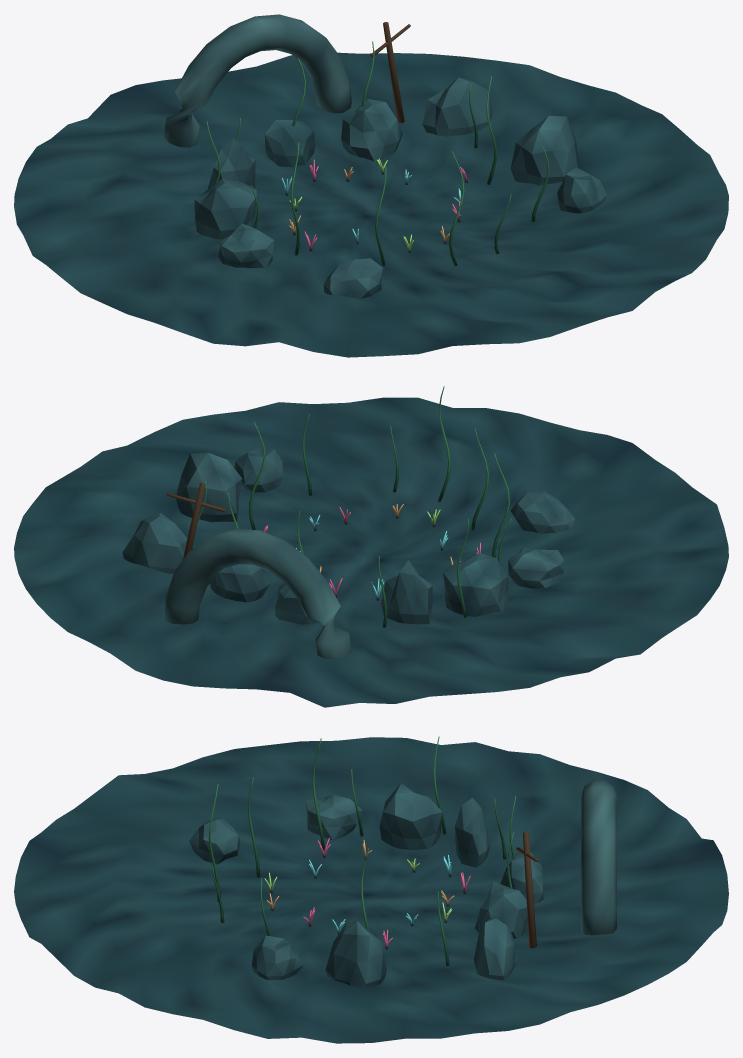
File: arena-abyss.fbc5b22399.glb
3 views of the same model, one above another, from view 1: azimuth 30°, elevation 25°; view 2: azimuth 150°, elevation 25°; view 3: azimuth 270°, elevation 25° (orthographic).
Visible parts, largest first — view 1: Arena; view 2: Arena; view 3: Arena.
Boxes of the visible parts, x1,y1,x2,y2 form: Arena: (14,14,728,357); Arena: (14,386,728,707); Arena: (14,736,728,1043).
Size of the model in its own units: 44 by 10.68 by 44.
